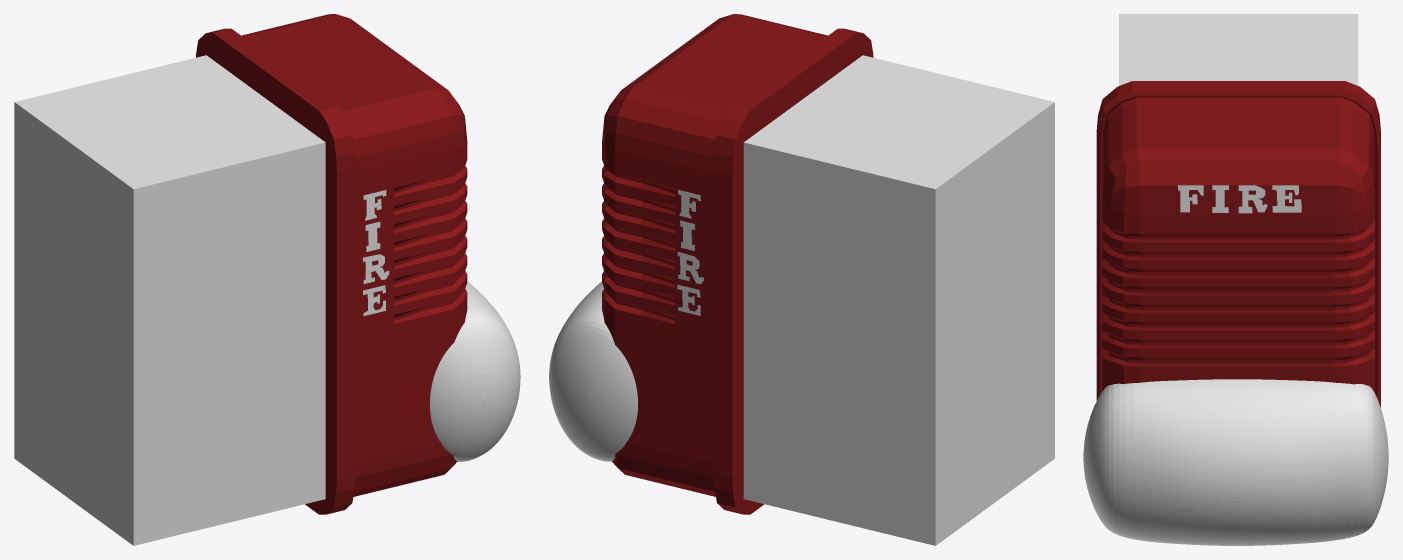
The model's file is FireAlarm.fbx.
3 renders of one model, left to right at view 1: azimuth 30°, elevation 25°; view 2: azimuth 150°, elevation 25°; view 3: azimuth 270°, elevation 25°, orthographic.
Visible parts, largest first — view 1: WallBox, AlarmShell, AlarmLight, FireWording; view 2: WallBox, AlarmShell, AlarmLight, FireWording; view 3: AlarmShell, AlarmLight, WallBox, FireWording.
Boxes of the visible parts, x1,y1,x2,y2 form: WallBox: (14,55,325,545); AlarmShell: (196,14,467,514); AlarmLight: (429,281,520,461); FireWording: (363,190,389,315); WallBox: (743,55,1054,545); AlarmShell: (602,14,873,514); AlarmLight: (549,281,637,461); FireWording: (677,189,703,315); AlarmShell: (1096,81,1380,407); AlarmLight: (1083,379,1388,545); WallBox: (1119,14,1358,85); FireWording: (1177,185,1301,213).
Bounding box in the file's own units: 393 × 374 × 255.
